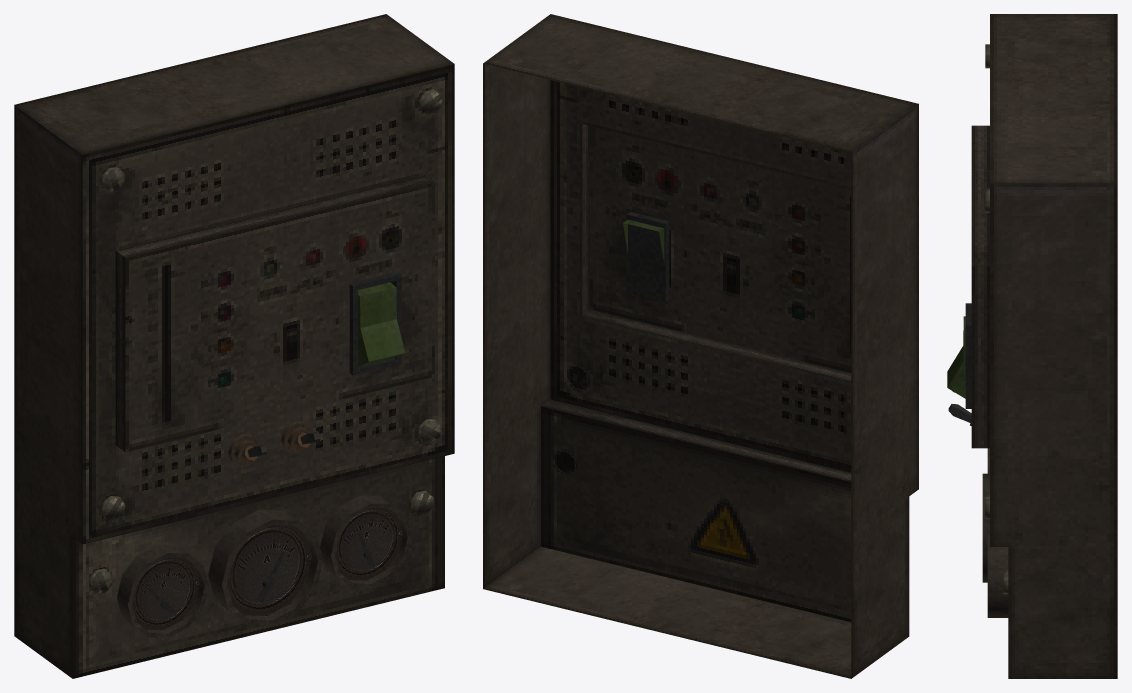
The model's file is panel_etx_1_1.glb.
3 views of the same model, side by side, from view 1: azimuth 30°, elevation 25°; view 2: azimuth 150°, elevation 25°; view 3: azimuth 270°, elevation 25° (orthographic). The views are drawn at different scales.
Visible parts, largest first — view 1: panel_etx_1_1, panel_etx_1_1_button_child; view 2: panel_etx_1_1; view 3: panel_etx_1_1, panel_etx_1_1_button_child.
Boxes of the visible parts, left/top/right/bottom form: panel_etx_1_1: left=14, top=14, right=454, bottom=678; panel_etx_1_1_button_child: left=358, top=282, right=405, bottom=366; panel_etx_1_1: left=483, top=14, right=918, bottom=678; panel_etx_1_1: left=948, top=14, right=1117, bottom=678; panel_etx_1_1_button_child: left=947, top=316, right=965, bottom=398.
Bounding box in the file's own units: 0.44 × 0.6 × 0.1866.
Materials: 2 (2 with a texture image).
